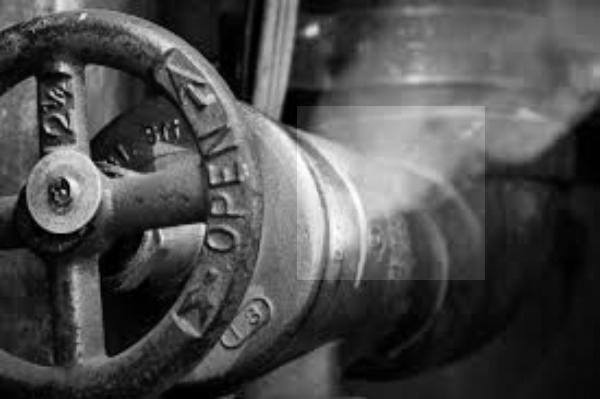gas: (297, 106, 485, 280)
